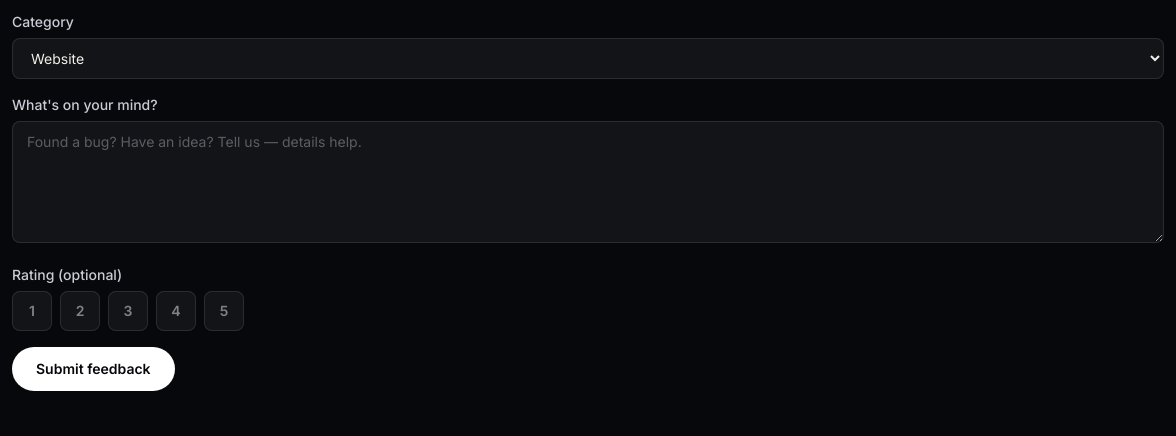
FeedbackForm (feedback mode) › blocks too-short messages client-side
Type "tiny" into the text box with test id "feedback-message". click: (588, 182)
box: [12,121,1164,243]
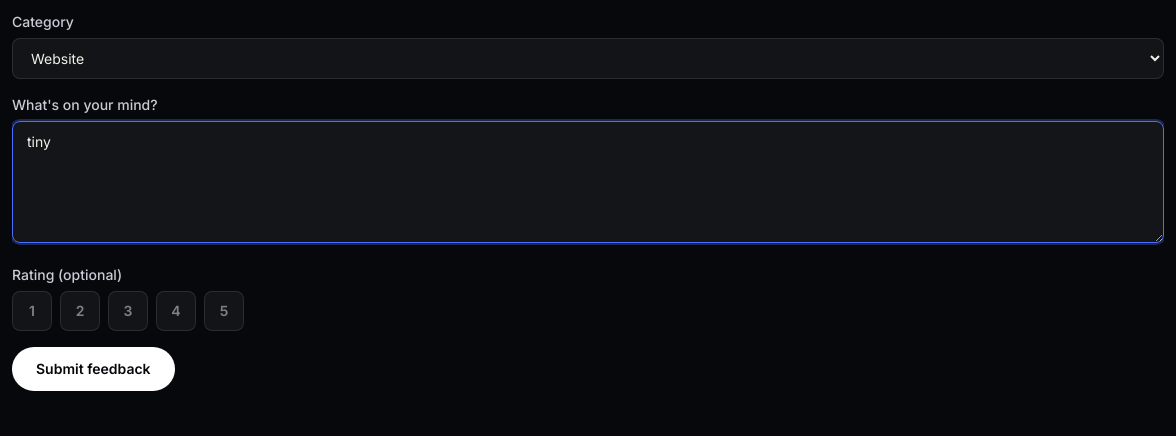
Click the button with test id "feedback-submit". click: click(93, 369)
box: [12,347,175,391]
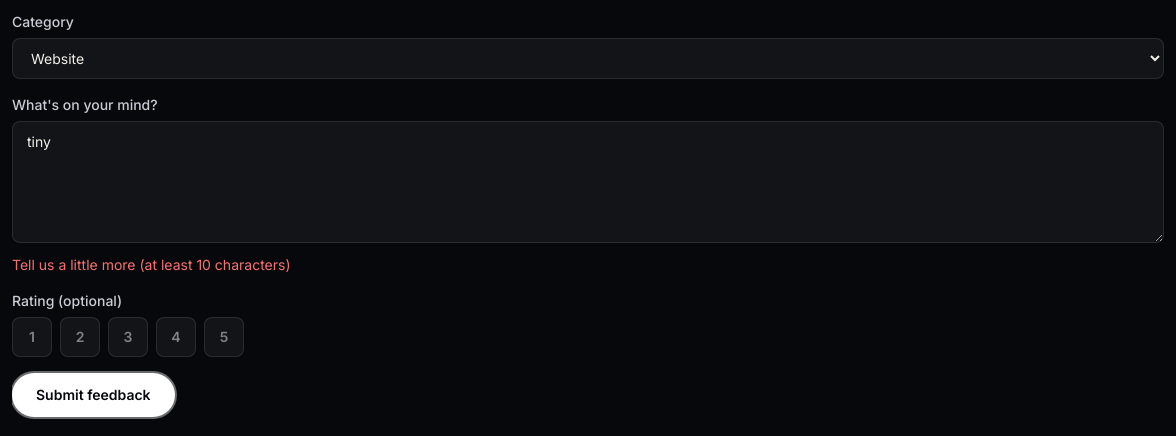
Result: the text "Tell us a little more (at least 10 characters)" is shown at [12,256,290,273]
